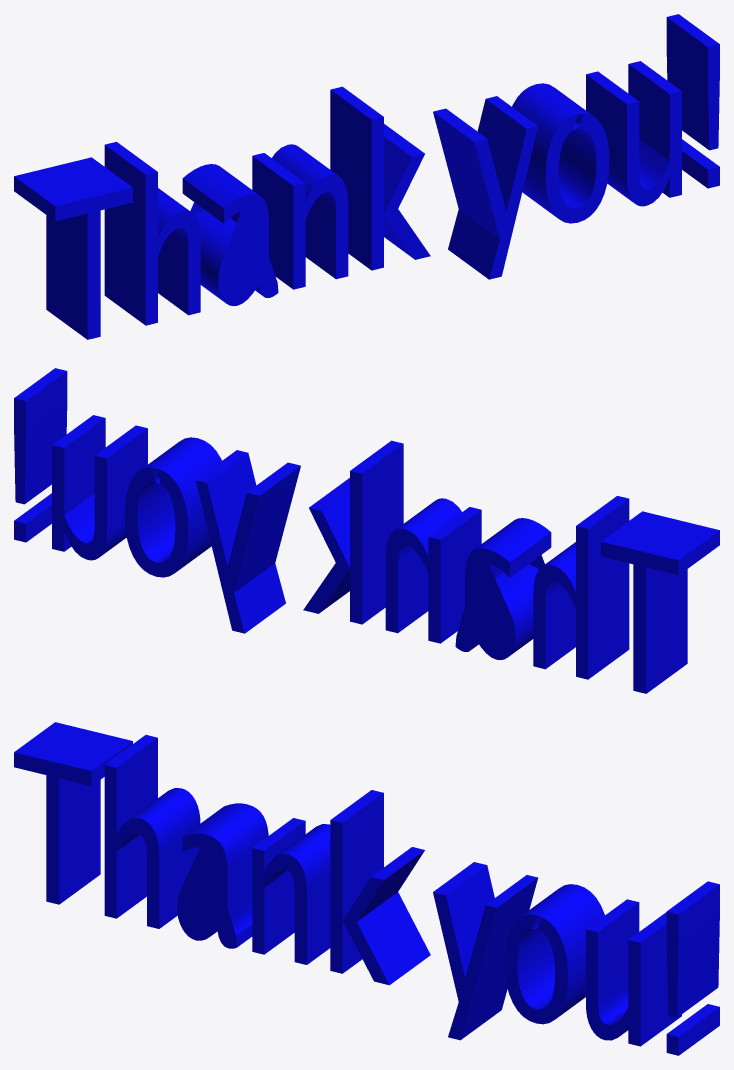
3 renders of one model, top to bottom at view 1: azimuth 30°, elevation 25°; view 2: azimuth 150°, elevation 25°; view 3: azimuth 330°, elevation 25°, orthographic.
Visible parts, largest first — view 1: typeMesh1; view 2: typeMesh1; view 3: typeMesh1.
Boxes of the visible parts, left/top/right/bottom form: typeMesh1: left=14, top=14, right=719, bottom=339; typeMesh1: left=14, top=368, right=719, bottom=693; typeMesh1: left=14, top=722, right=719, bottom=1055.
Size of the model in its own units: 2.98 by 0.8087 by 0.3207.
